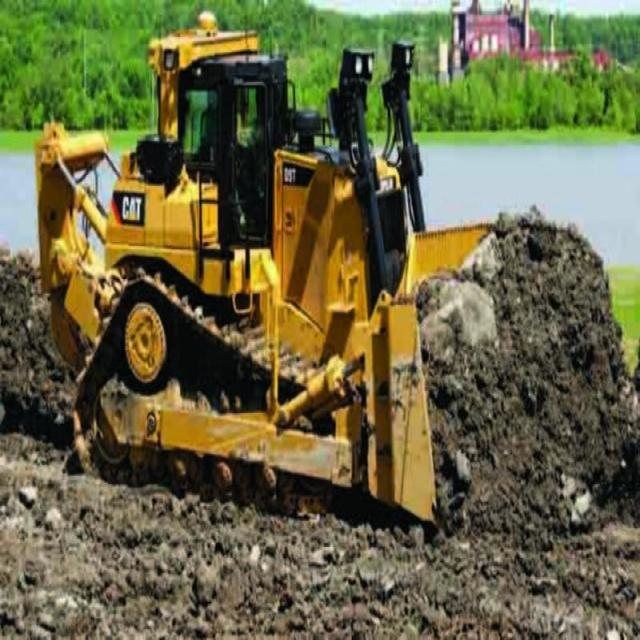buldozerpayloadergrader: (21, 15, 639, 602)
